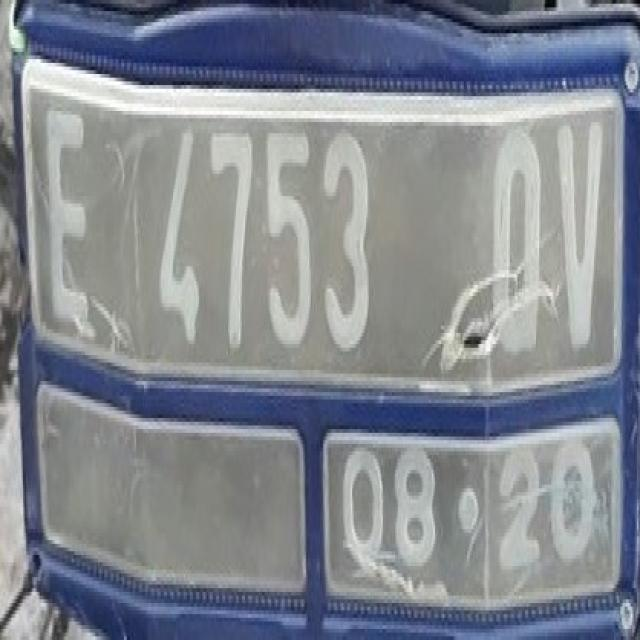plate: (22, 70, 623, 618)
